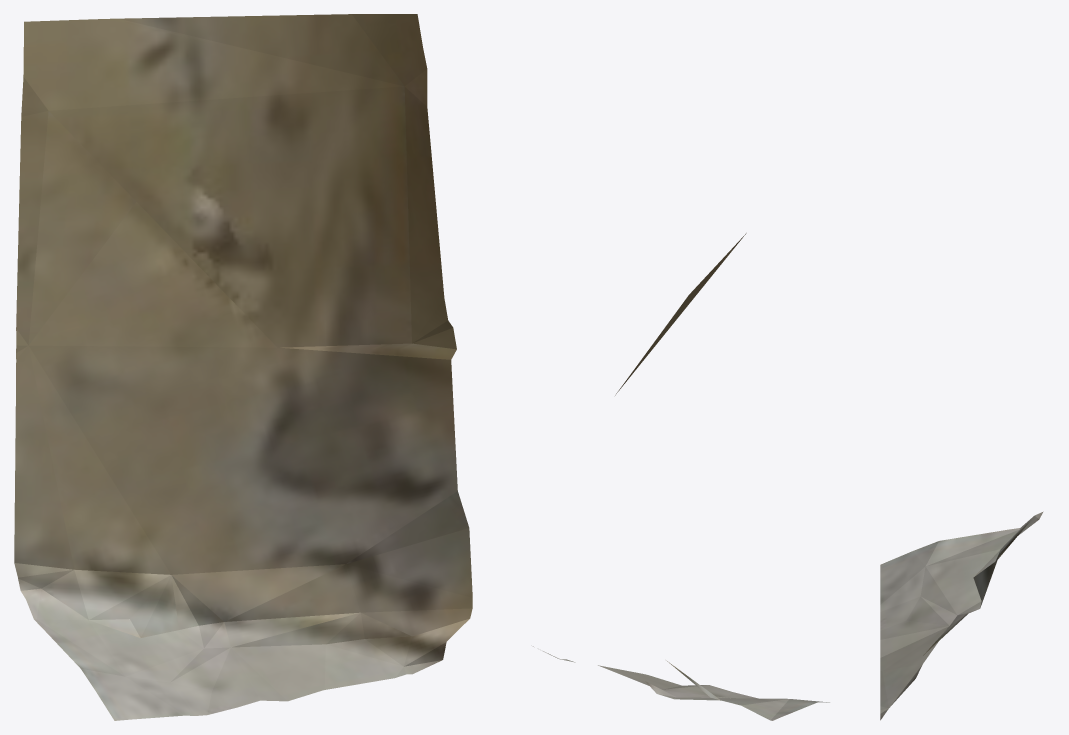
3 views of the same model, side by side, from view 1: azimuth 30°, elevation 25°; view 2: azimuth 150°, elevation 25°; view 3: azimuth 270°, elevation 25° (orthographic). The views are drawn at different scales.
Size of the model in its own units: 0.3511 by 0.6174 by 0.1704.
Materials: 1 (1 with a texture image).
